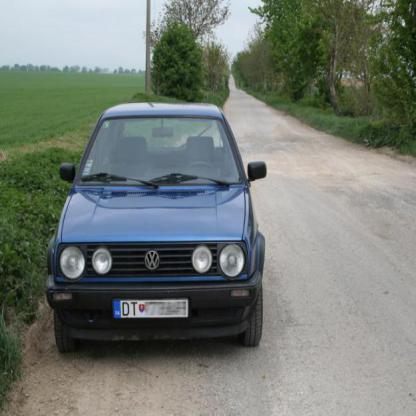Vehicle: (43, 98, 268, 352)
